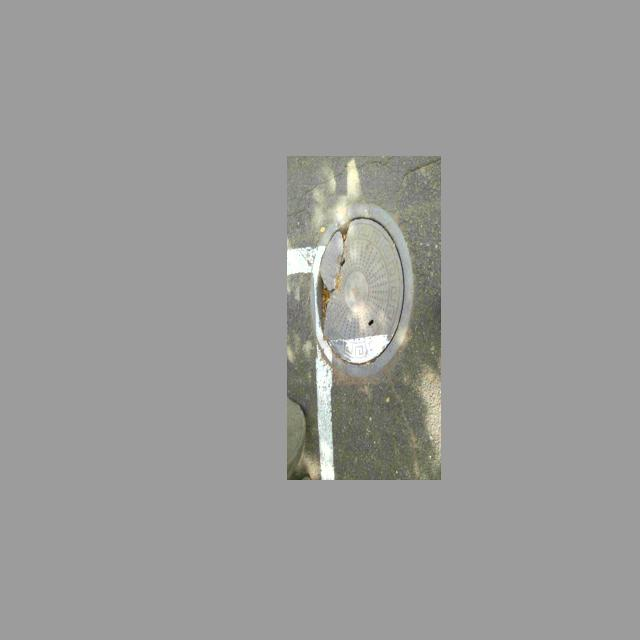broke: (308, 198, 418, 375)
